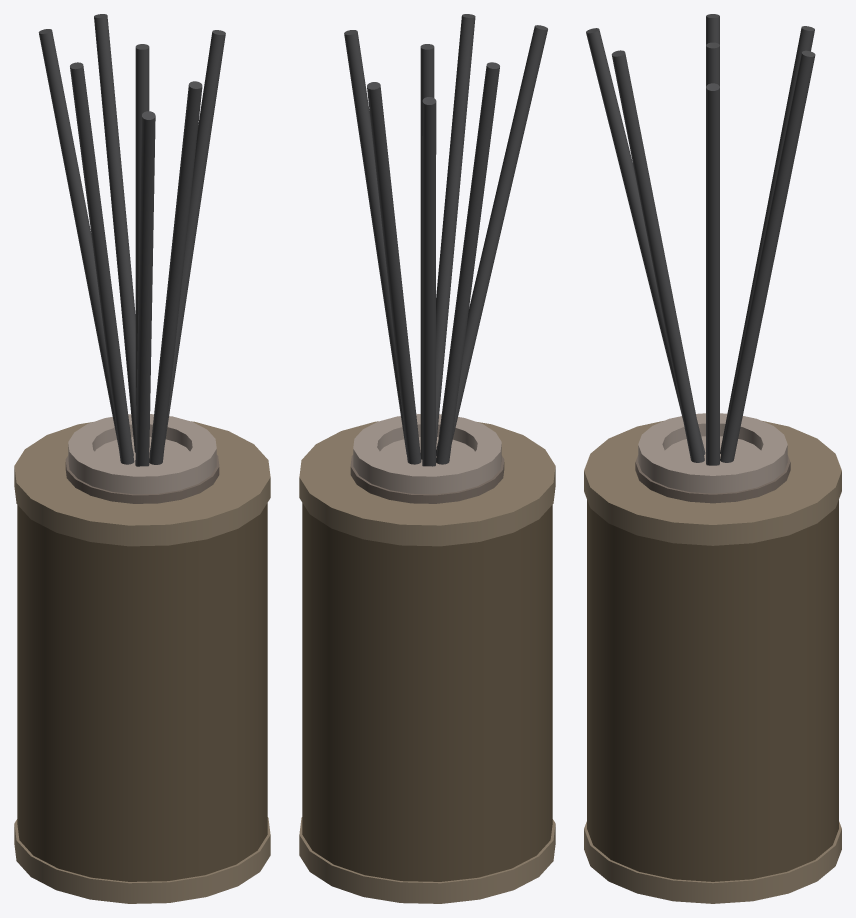
The model's file is colored perfumed sticks livingroom.fbx.
3 views of the same model, side by side, from view 1: azimuth 30°, elevation 25°; view 2: azimuth 150°, elevation 25°; view 3: azimuth 270°, elevation 25° (orthographic).
Visible parts, largest first — view 1: pCylinder1, pCylinder13, pCylinder11, pCylinder2, pCylinder12, pCylinder3; view 2: pCylinder1, pCylinder13, pCylinder11, pCylinder2, pCylinder12, pCylinder3; view 3: pCylinder1, pCylinder13, pCylinder11, pCylinder2, pCylinder12, pCylinder3.
Part boxes in pixels (x1,y1,x2,y2): pCylinder1: (17,503,267,881); pCylinder13: (38,14,225,466); pCylinder11: (14,421,270,546); pCylinder2: (68,414,216,494); pCylinder12: (14,817,270,903); pCylinder3: (65,455,219,503); pCylinder1: (302,503,552,881); pCylinder13: (344,14,547,466); pCylinder11: (299,421,555,546); pCylinder2: (353,414,501,494); pCylinder12: (299,817,555,903); pCylinder3: (350,455,504,503); pCylinder1: (587,500,838,881); pCylinder13: (586,14,815,465); pCylinder11: (584,421,841,545); pCylinder2: (638,413,787,493); pCylinder12: (584,821,841,903); pCylinder3: (635,455,790,503).
Bounding box in the file's own units: 0.0906 × 0.3117 × 0.0906.
